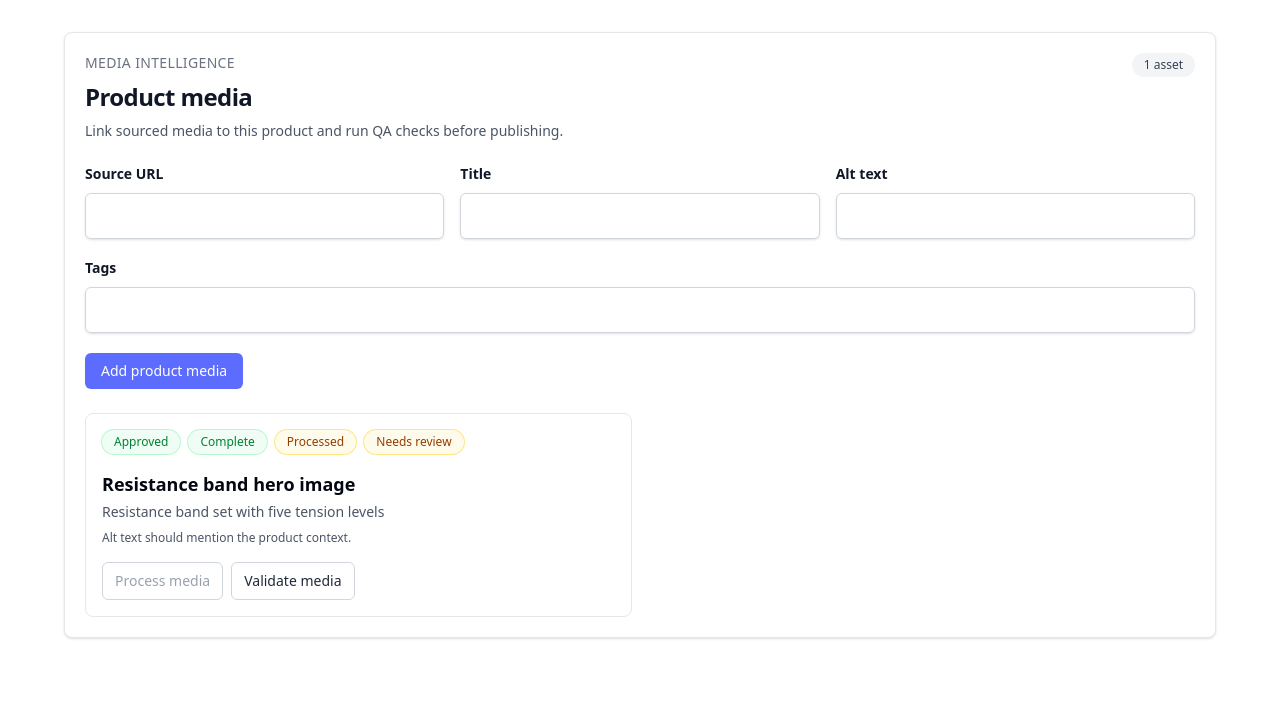
it: ProductMediaPanel › reports validation errors from the backend
The width and height of the screenshot is (1280, 720).
Click the button with aria-label "validate resistance band hero image" at [293, 581], box 231,562 -> 354,600
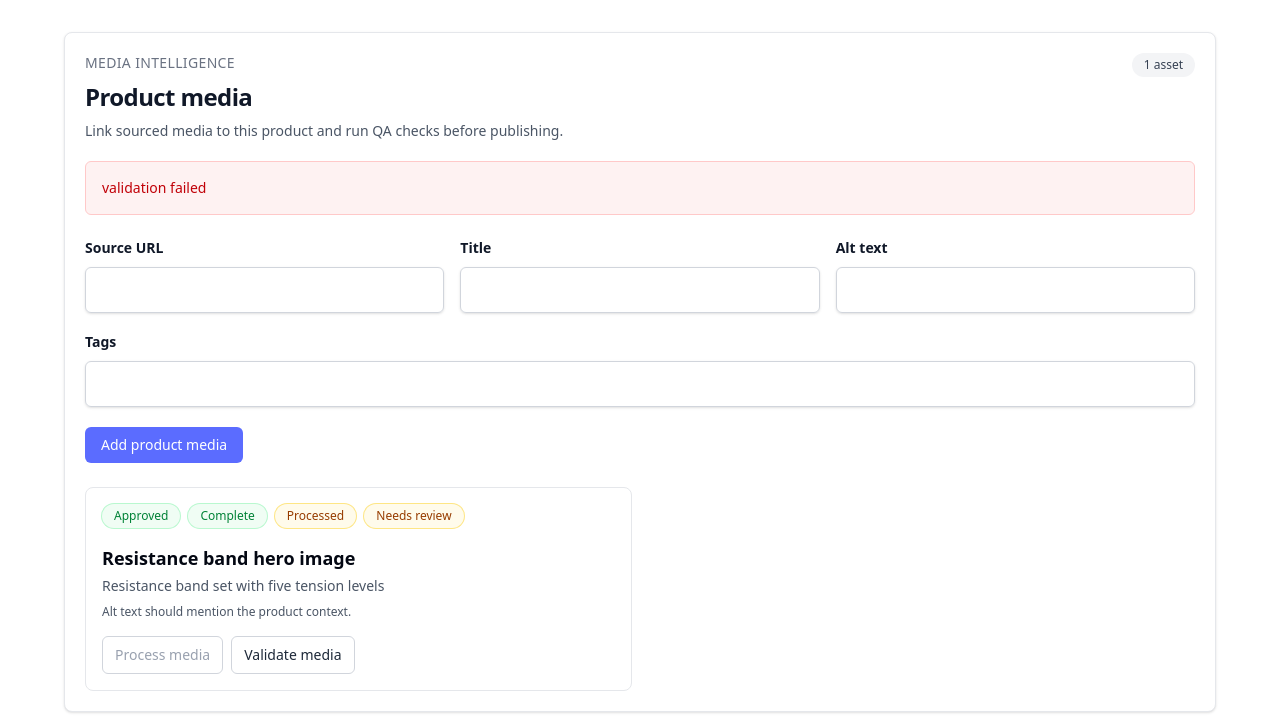
Check: the message reads "validation failed", box 102,178 -> 206,197
